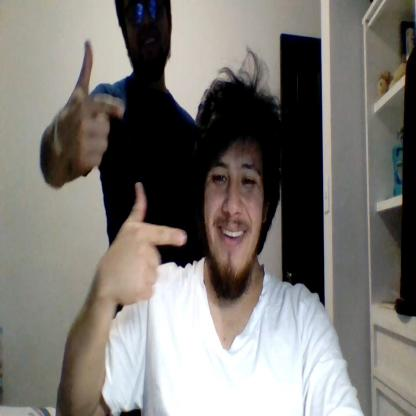G: (114, 180, 186, 305), (67, 39, 125, 168)
